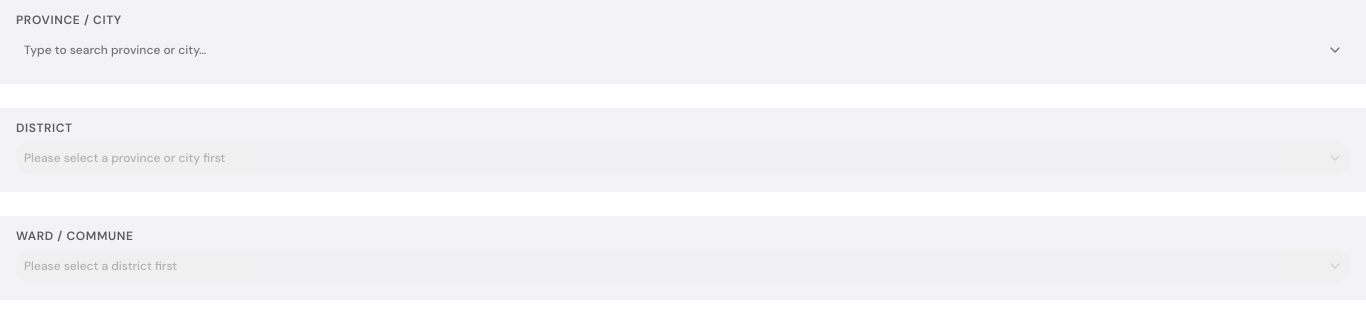
Test: AdministrativeDivisionFields › filters province list when user types search text
The image size is (1366, 317).
# Open combobox by clicking input
Click the dropdown with placeholder "Type to search province or city…".
click(669, 50)  # box left=16, top=36, right=1323, bottom=64
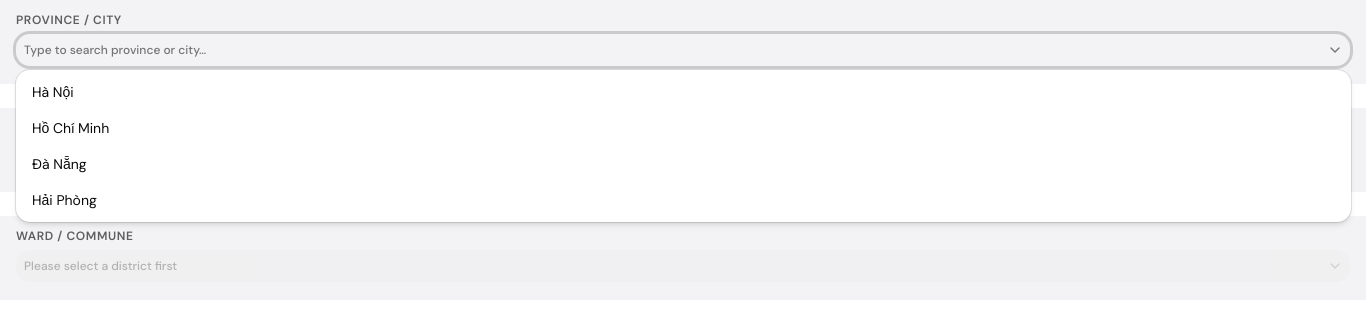
Expected: the option "Hà Nội" is shown, left=32, top=83, right=74, bottom=101
Expected: the option "Hồ Chí Minh" is shown, left=32, top=119, right=109, bottom=137
# Type "Da Nang" or "Đà Nẵng" without accents
Type "Da Nang" into the dropdown with placeholder "Type to search province or city…".
click(669, 50); type("Da Nang")  # box left=16, top=36, right=1323, bottom=64
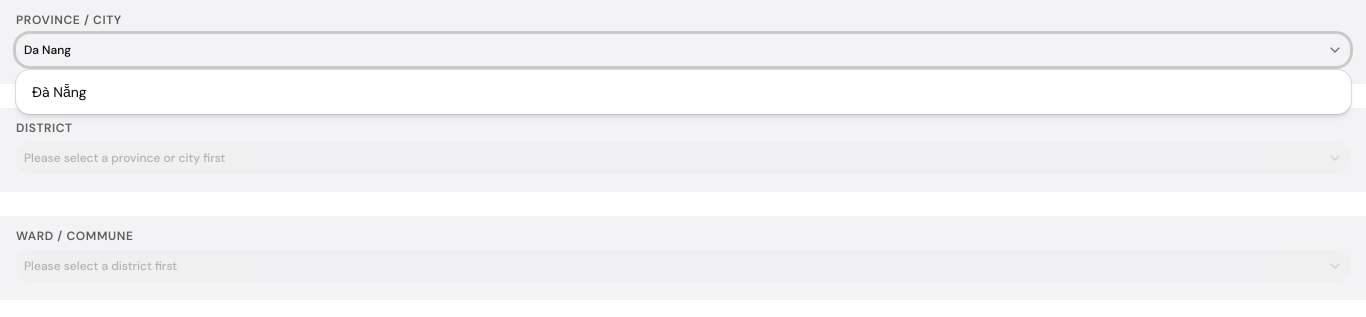
Expected: the option "Đà Nẵng" is shown, left=32, top=83, right=87, bottom=101
Expected: the option "Hà Nội" is gone
Expected: the option "Hồ Chí Minh" is gone
